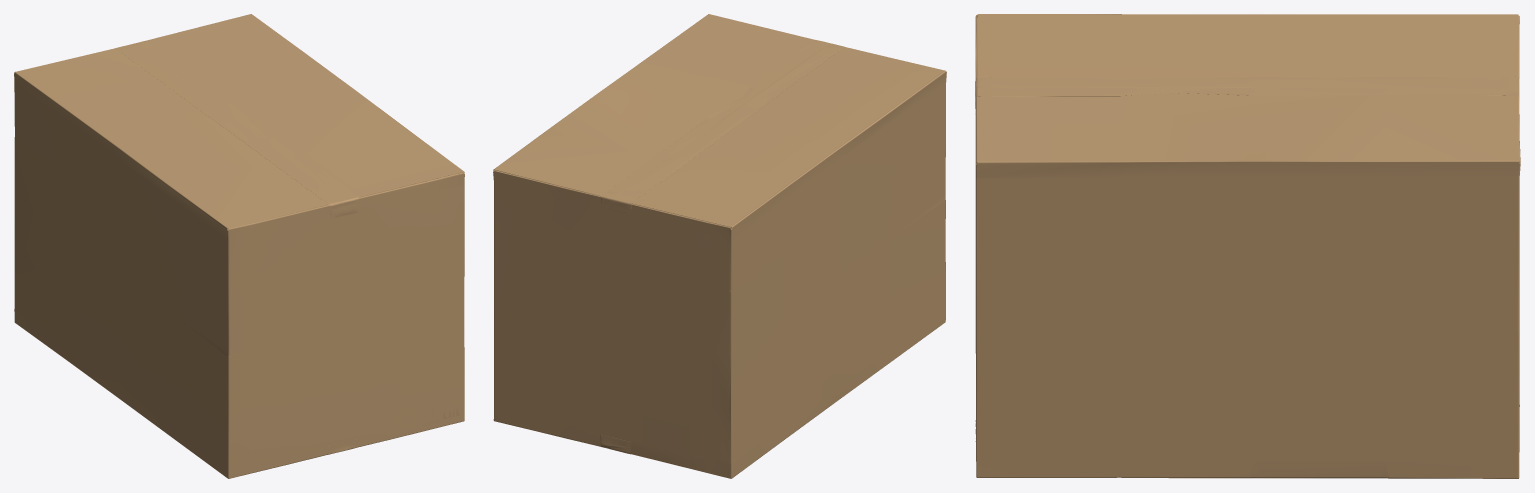
File: box_corrugated_white_a19.glb
3 renders of one model, left to right at view 1: azimuth 30°, elevation 25°; view 2: azimuth 150°, elevation 25°; view 3: azimuth 270°, elevation 25°, orthographic. The views are drawn at different scales.
Bounding box in the file's own units: 0.299 × 0.3019 × 0.4674.
